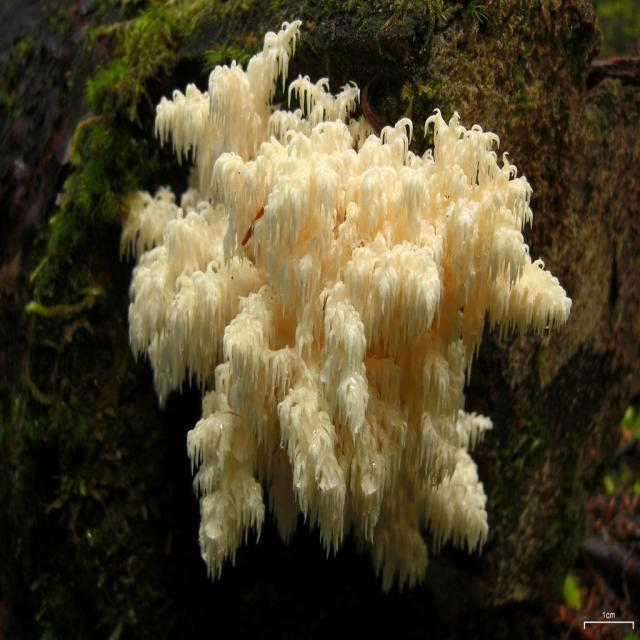Mushroom: (117, 22, 573, 589)
